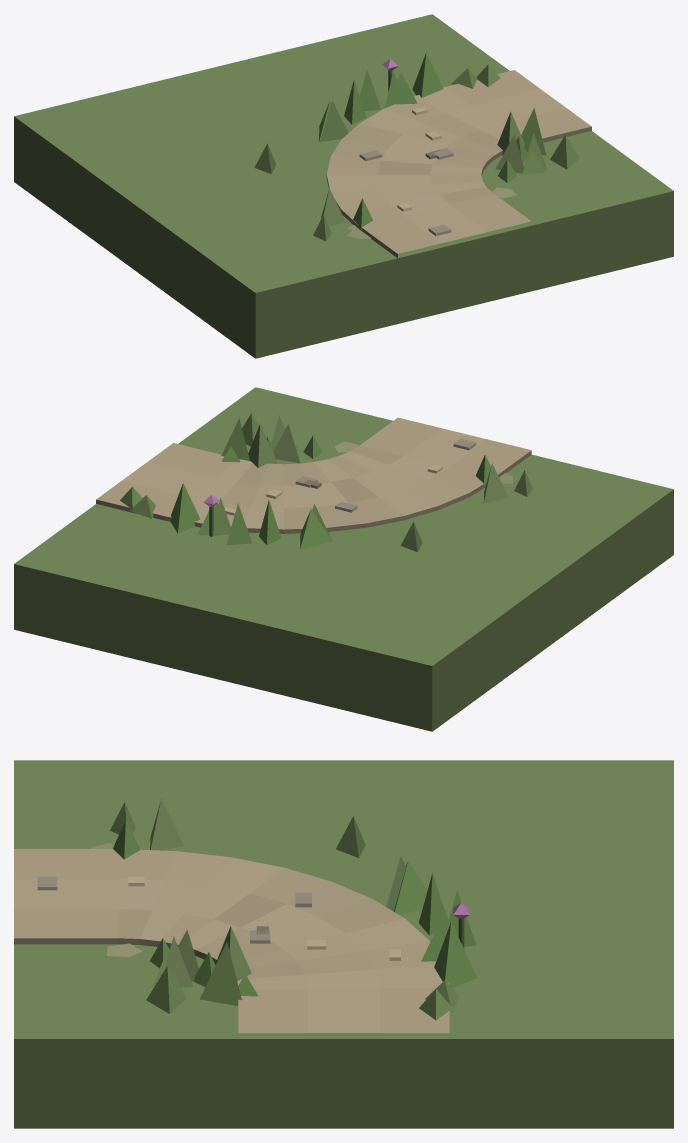
The model's file is t_footpath_corner_b.glb.
3 views of the same model, one above another, from view 1: azimuth 30°, elevation 25°; view 2: azimuth 150°, elevation 25°; view 3: azimuth 270°, elevation 25° (orthographic). The views are drawn at different scales.
Visible parts, largest first — view 1: t_footpath_corner_b; view 2: t_footpath_corner_b; view 3: t_footpath_corner_b.
Boxes of the visible parts, x1=… form: t_footpath_corner_b: x1=14, y1=14, x2=673, y2=358; t_footpath_corner_b: x1=14, y1=387, x2=673, y2=731; t_footpath_corner_b: x1=14, y1=760, x2=673, y2=1128.
Bounding box in the file's own units: 2 × 0.4971 × 2.
